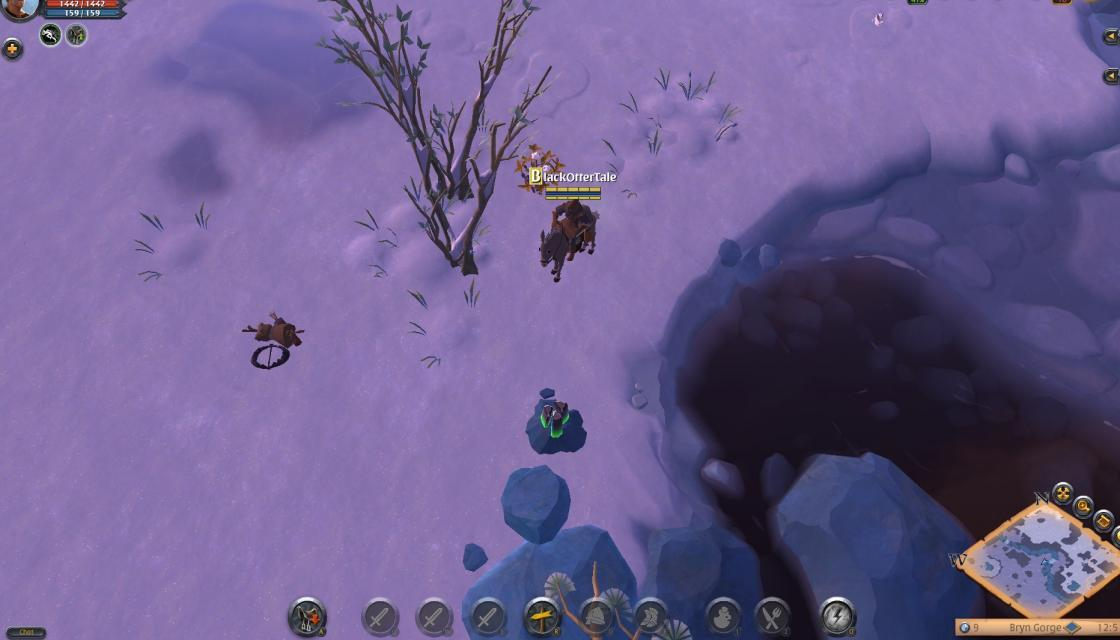tinore: (528, 393, 587, 453)
